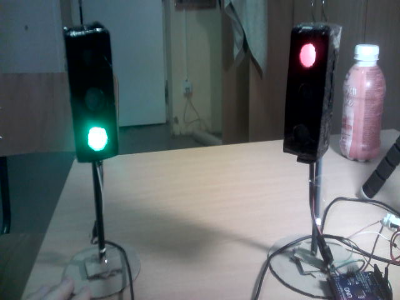trafficlight_green: (71, 31, 115, 156)
trafficlight_red: (287, 28, 334, 154)
